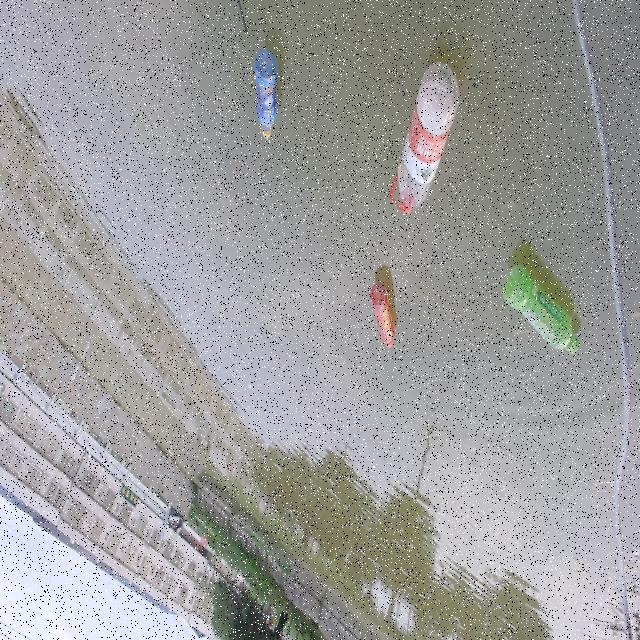Bottle: (388, 47, 459, 216), (500, 260, 580, 357), (251, 47, 279, 144), (368, 278, 398, 354)
